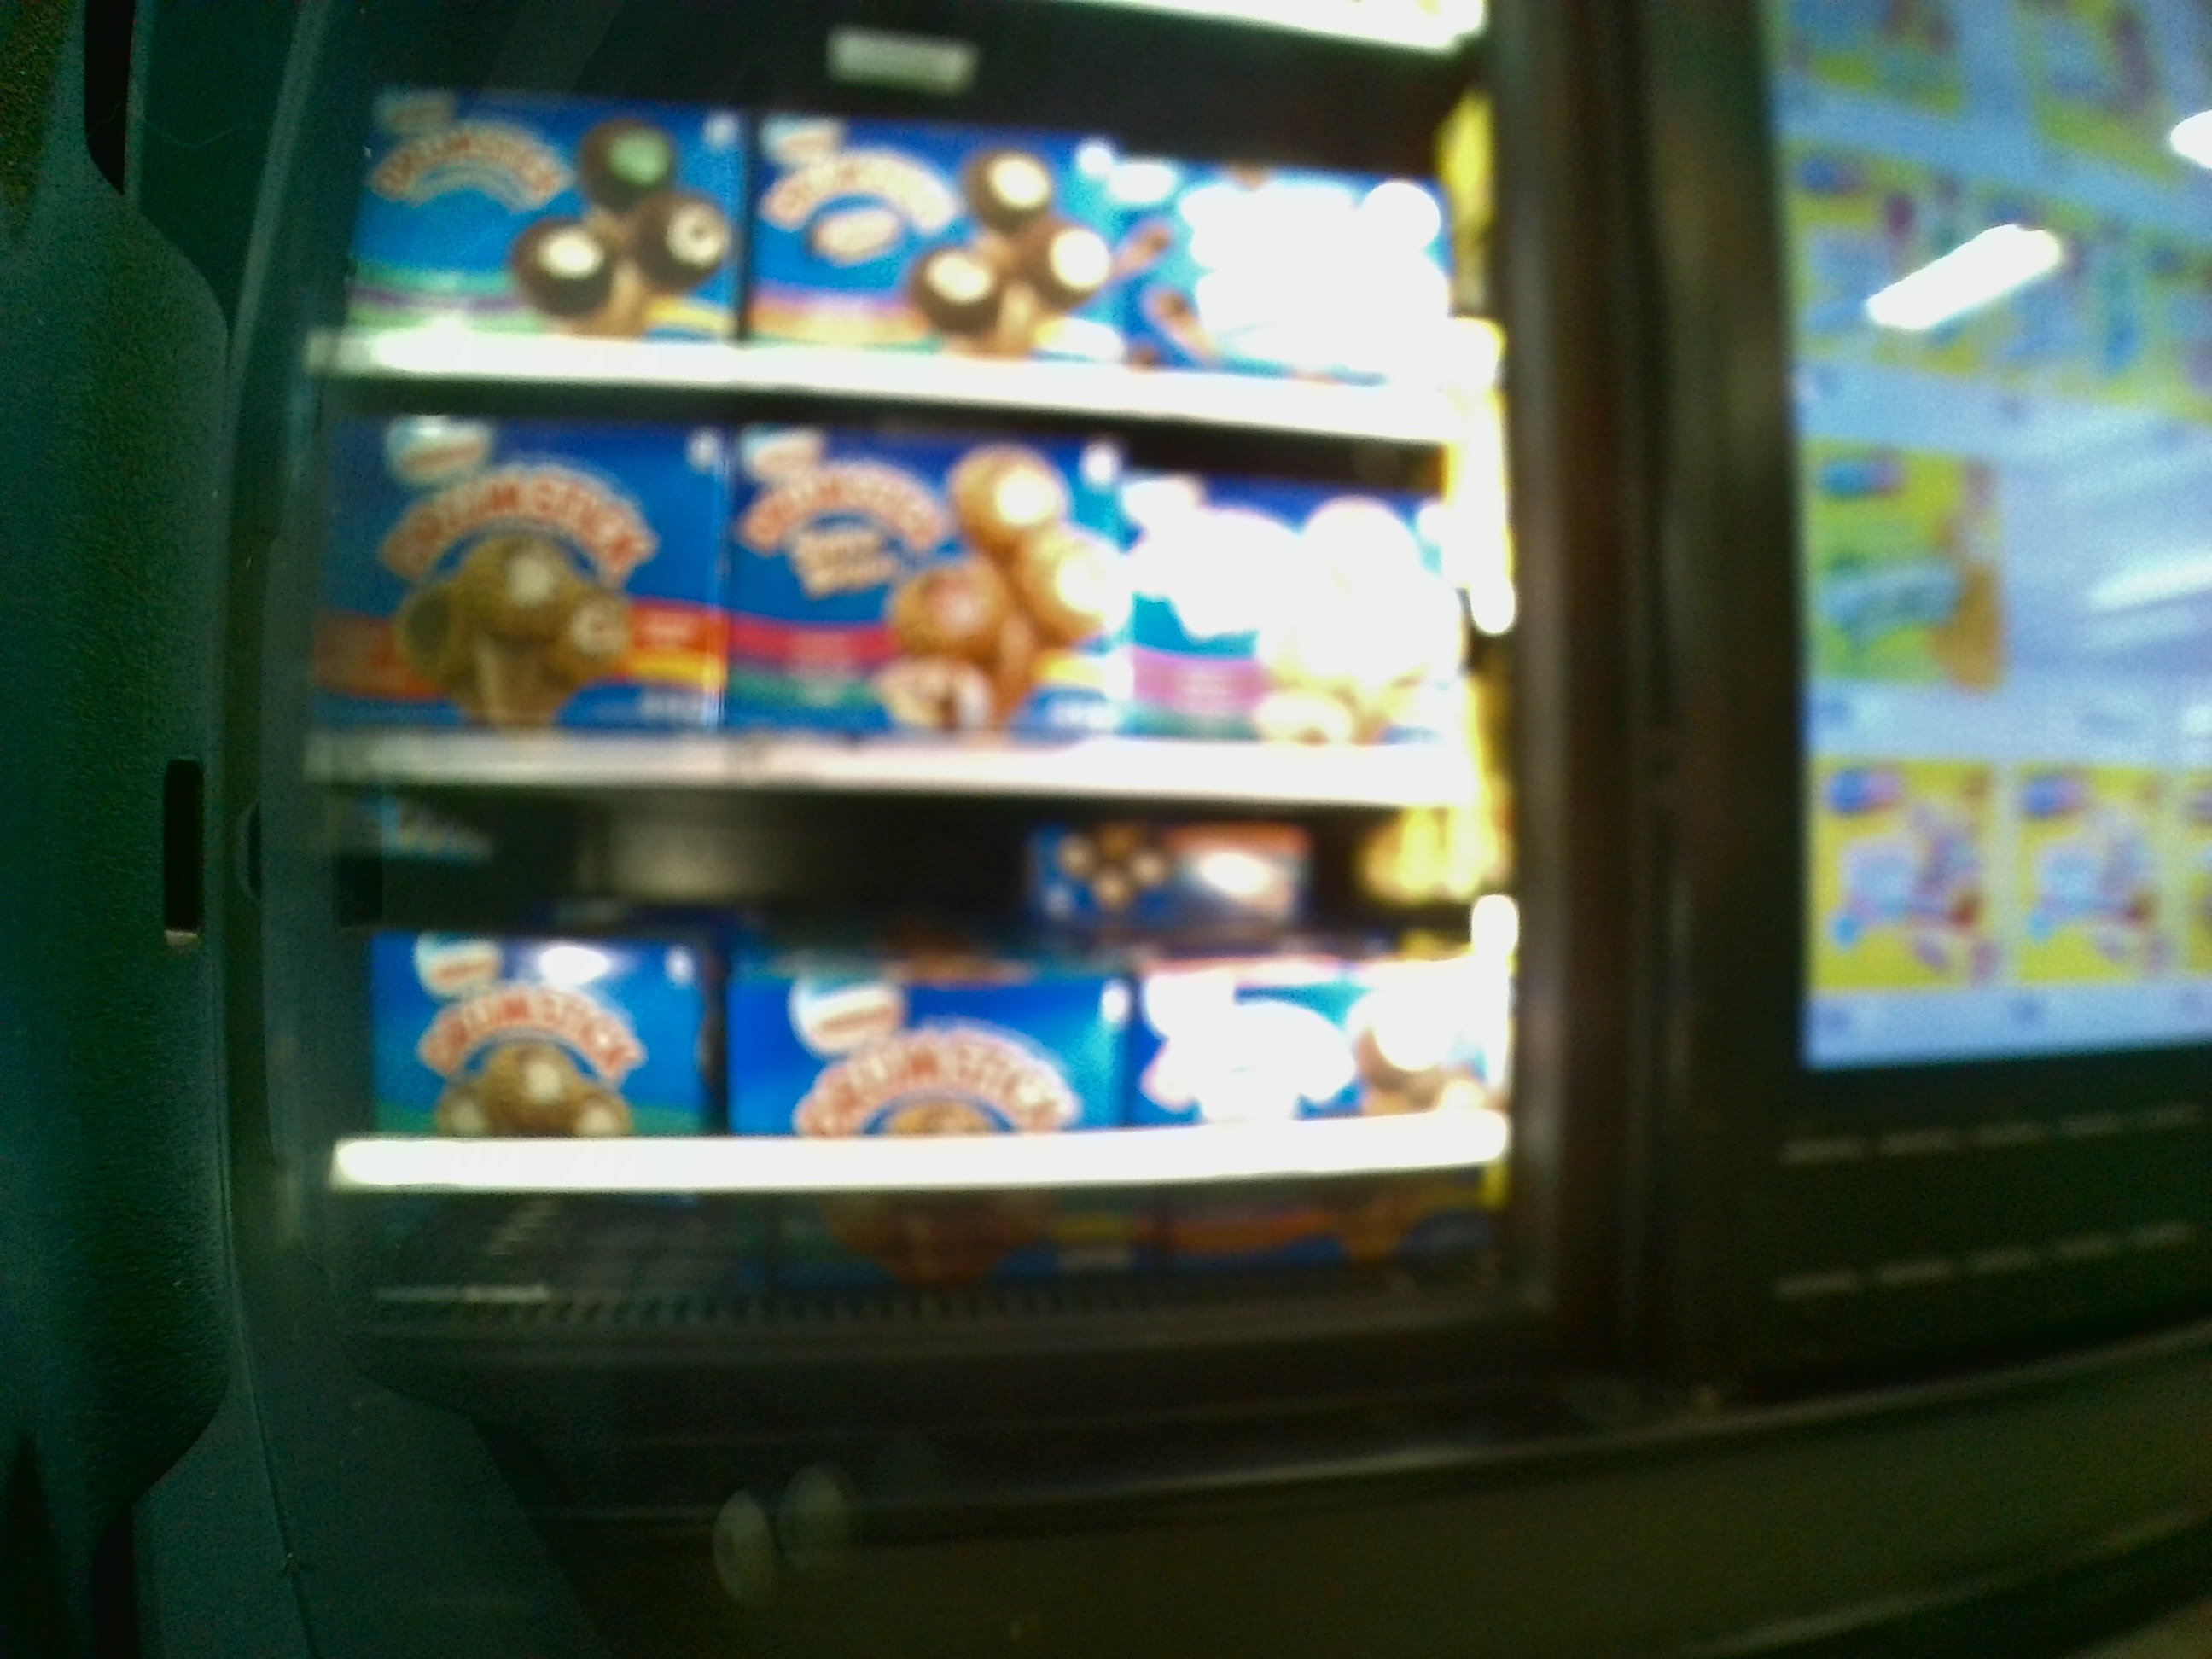shelf: (340, 795, 1515, 1288), (322, 423, 1496, 800)
